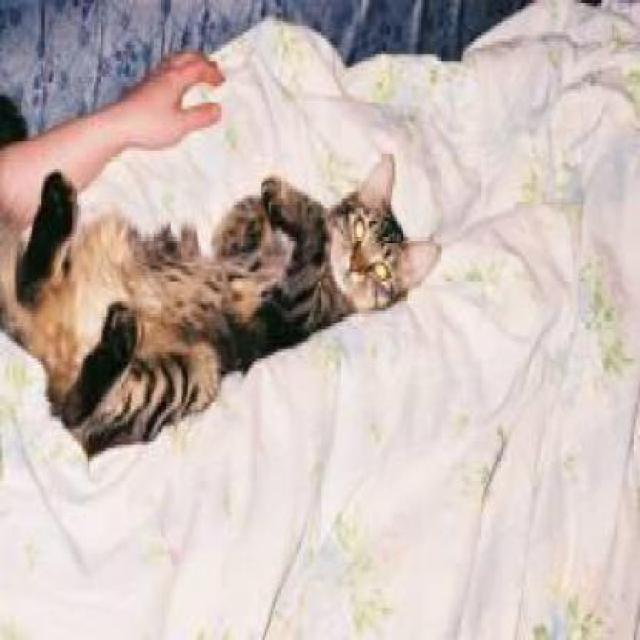cat: (0, 150, 442, 461)
